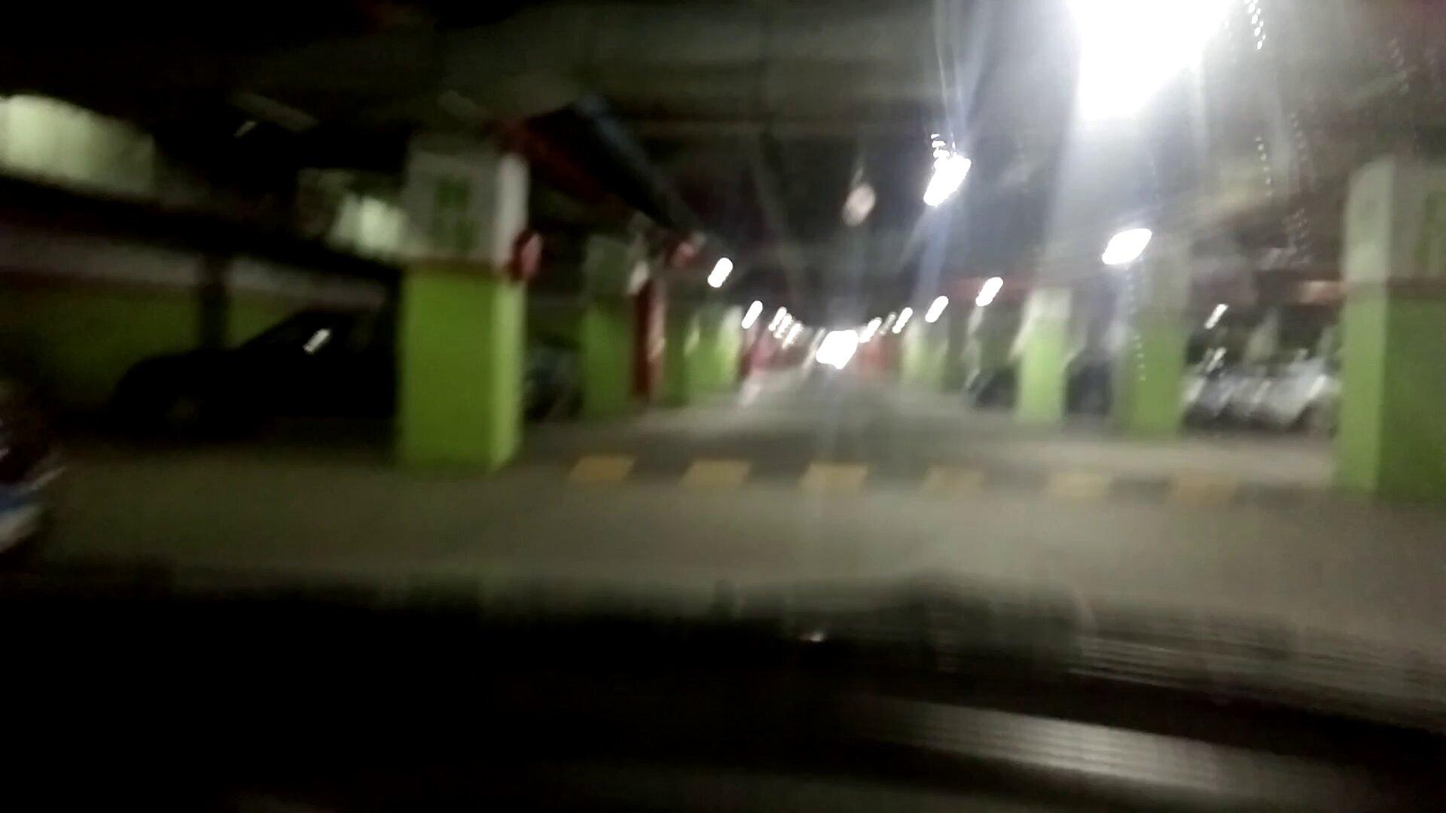Bump: (505, 448, 1367, 507)
